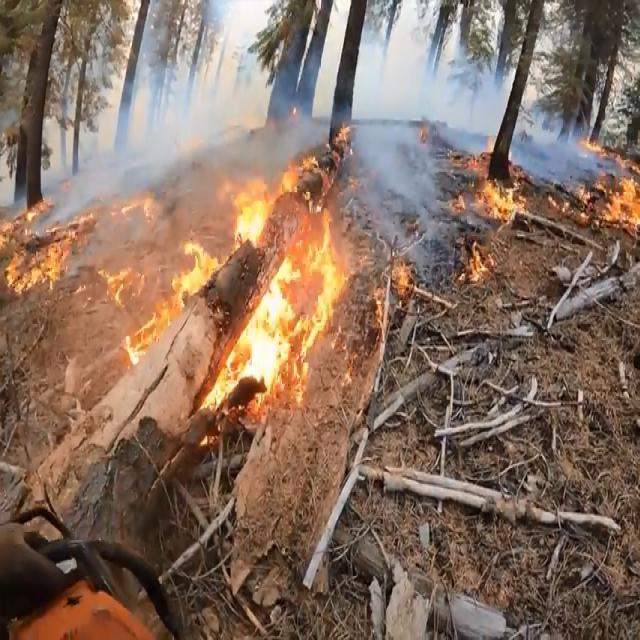Fire: (1, 152, 640, 412)
